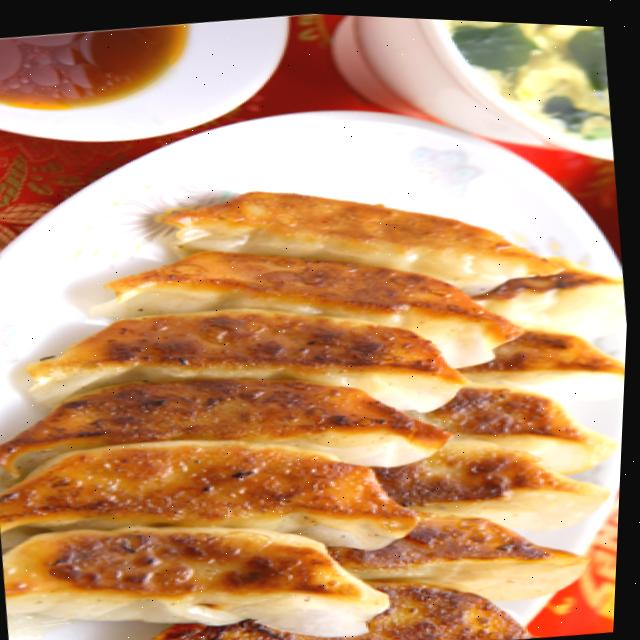带馅早点: (0, 133, 635, 640)
